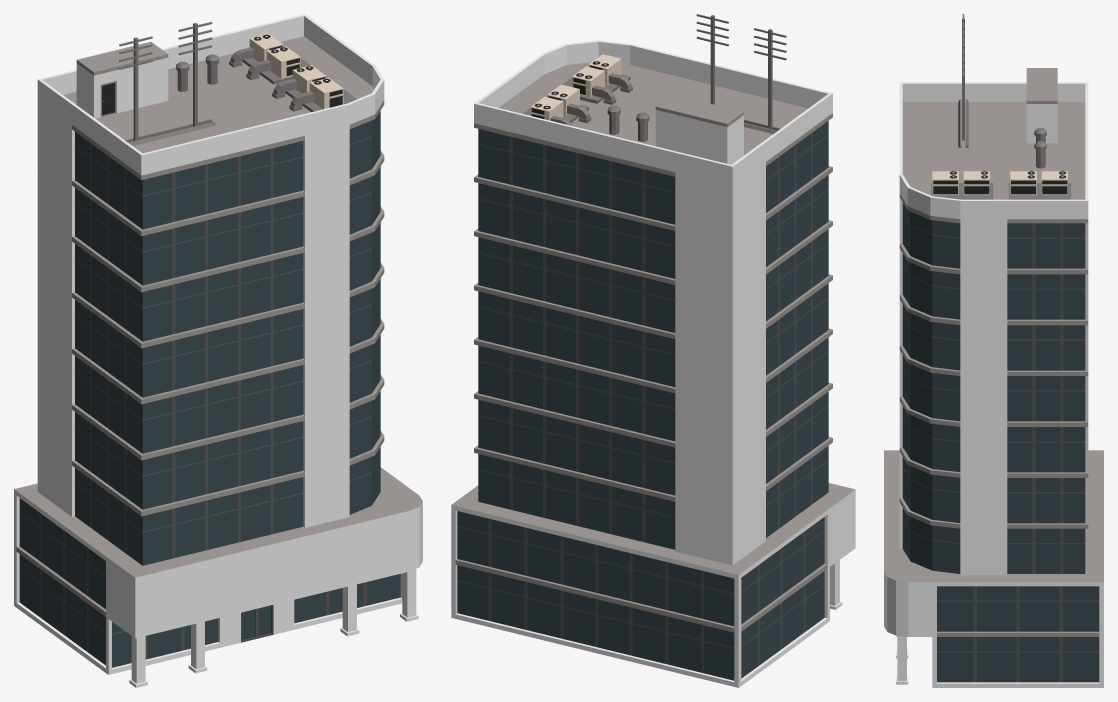
Rendered from buildings_building-office-rounded.fbx.
3 renders of one model, left to right at view 1: azimuth 30°, elevation 25°; view 2: azimuth 150°, elevation 25°; view 3: azimuth 270°, elevation 25°, orthographic. The views are drawn at different scales.
Visible parts, largest first — view 1: buildings_building_office_rounded; view 2: buildings_building_office_rounded; view 3: buildings_building_office_rounded.
Boxes of the visible parts, x1,y1,x2,y2 form: buildings_building_office_rounded: [14, 14, 422, 687]; buildings_building_office_rounded: [451, 14, 855, 687]; buildings_building_office_rounded: [884, 14, 1103, 687].
Bounding box in the file's own units: 102 × 200 × 71.57.
